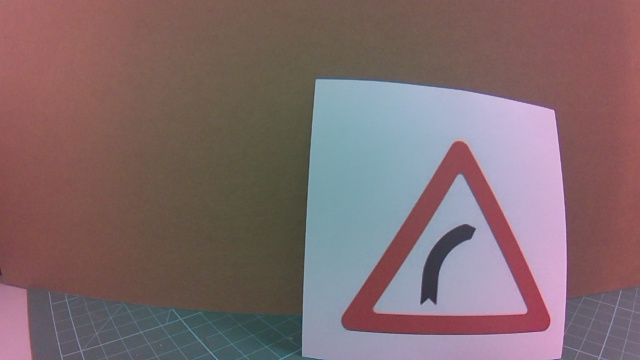right: (377, 171, 555, 347)
